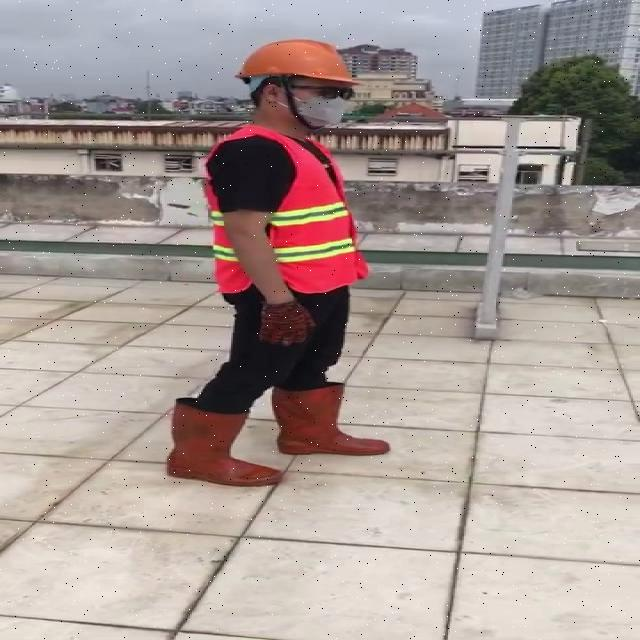Hard_hat: (229, 33, 363, 96)
Vest: (258, 130, 355, 295)
